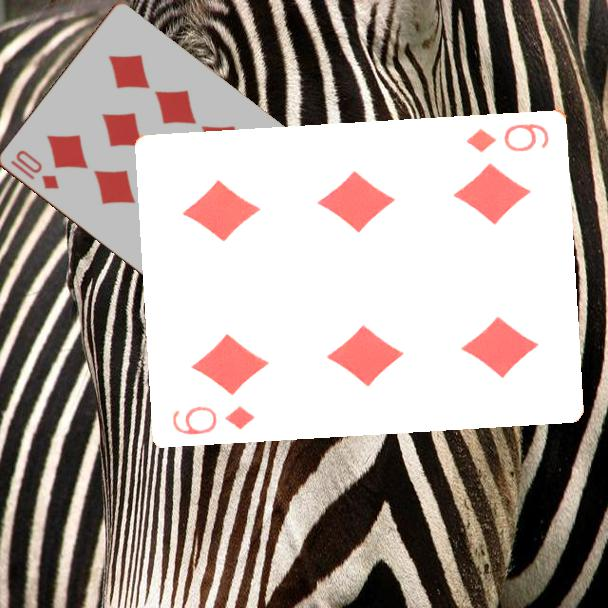d06: (463, 119, 553, 155), (169, 402, 258, 437)
d10: (6, 146, 61, 192)
